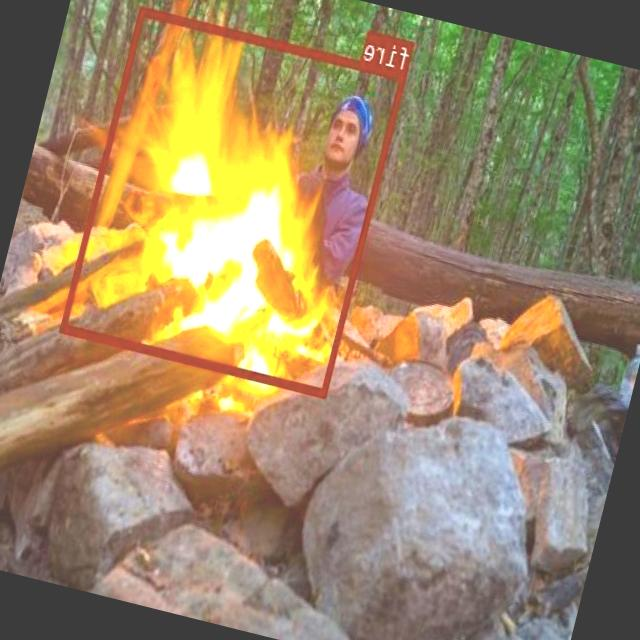fire: (61, 5, 408, 396)
